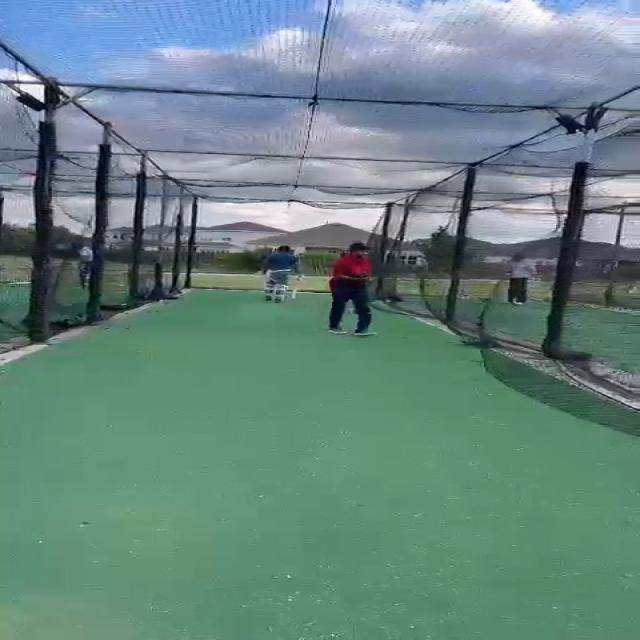batsman: (253, 244, 306, 304)
